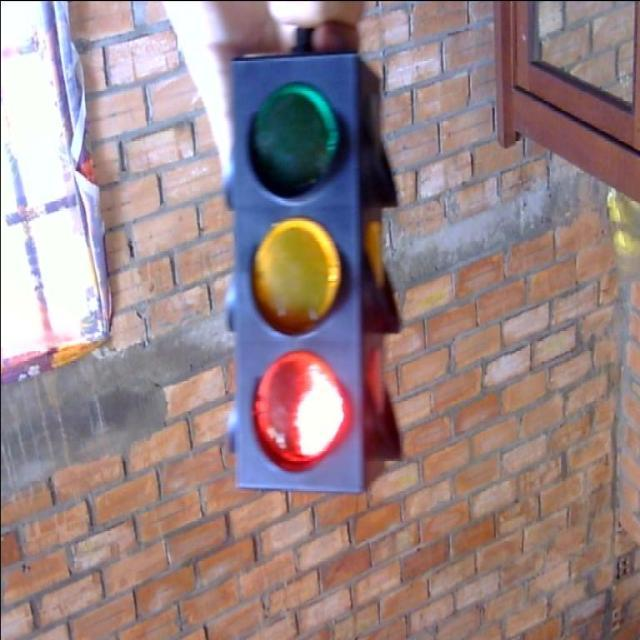red light: (238, 338, 354, 484)
